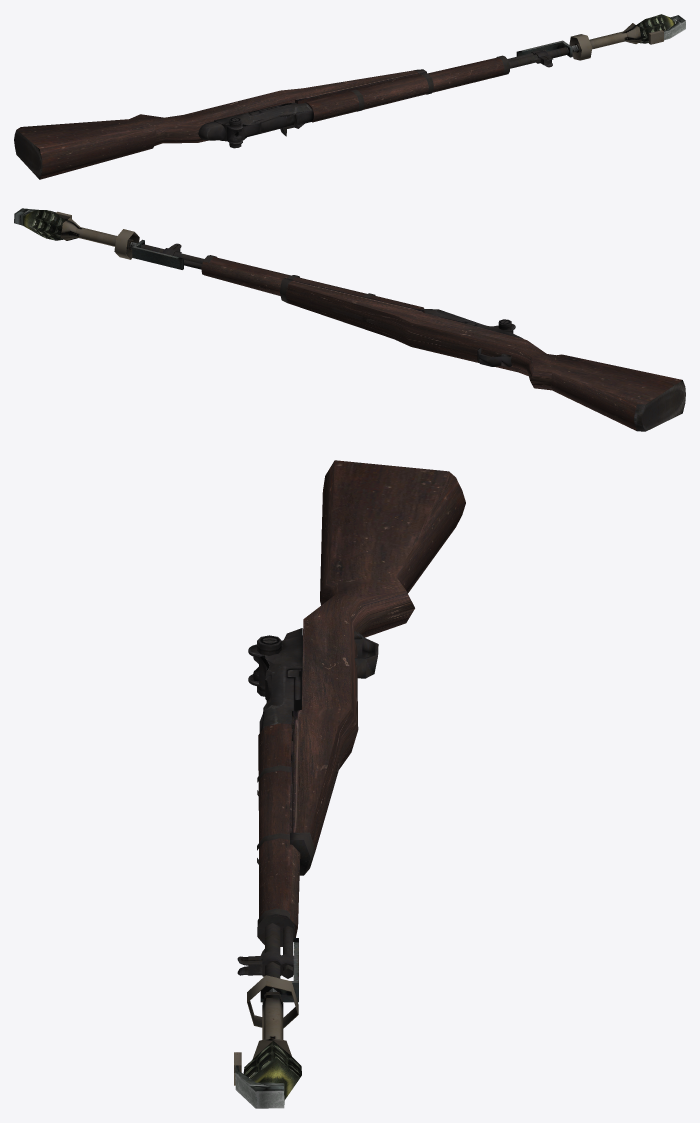
The model's file is weapon_usa_m1garand_rifle_grenade_LOD11.obj.
3 renders of one model, top to bottom at view 1: azimuth 30°, elevation 25°; view 2: azimuth 150°, elevation 25°; view 3: azimuth 270°, elevation 25°, orthographic. The views are drawn at different scales.
Parts seen in each view (by area): view 1: TomGroup_3, TomGroup_0, TomGroup_1, TomGroup_2; view 2: TomGroup_3, TomGroup_1, TomGroup_0, TomGroup_2; view 3: TomGroup_3, TomGroup_0, TomGroup_2, TomGroup_1.
Boxes of the visible parts, <box> form: TomGroup_3: <box>14,57,506,179</box>; TomGroup_0: <box>198,47,567,148</box>; TomGroup_1: <box>516,23,663,60</box>; TomGroup_2: <box>636,14,685,43</box>; TomGroup_3: <box>201,257,685,431</box>; TomGroup_1: <box>56,211,183,269</box>; TomGroup_0: <box>141,243,523,366</box>; TomGroup_2: <box>14,208,68,240</box>; TomGroup_3: <box>258,460,465,946</box>; TomGroup_0: <box>237,628,378,978</box>; TomGroup_2: <box>235,1041,301,1108</box>; TomGroup_1: <box>234,938,298,1085</box>.
Size of the model in its own units: 134 by 7.24 by 21.58.
Materials: 4 (4 with a texture image).
